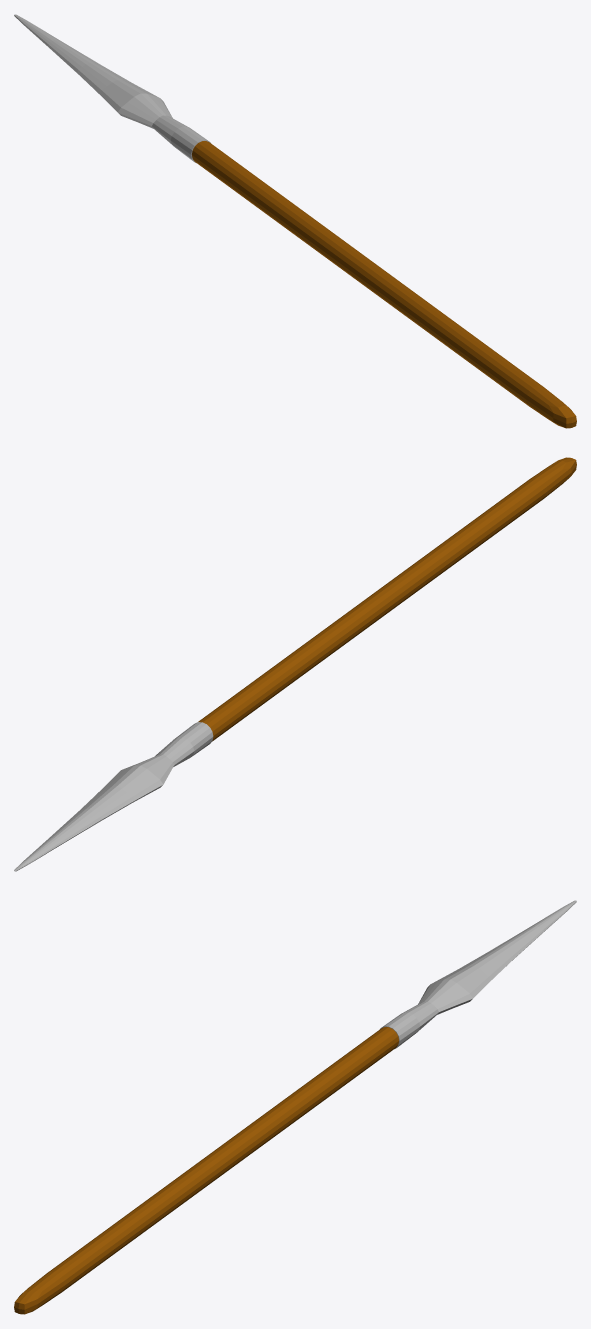
Rendered from Speer.fbx.
The picture shows the model from 3 angles, top to bottom: view 1: azimuth 30°, elevation 25°; view 2: azimuth 150°, elevation 25°; view 3: azimuth 330°, elevation 25°; orthographic projection.
Visible parts, largest first — view 1: Plane.015; view 2: Plane.015; view 3: Plane.015.
Part boxes in pixels (x1,y1,x2,y2): Plane.015: [14, 14, 576, 428]; Plane.015: [14, 457, 576, 871]; Plane.015: [14, 900, 576, 1314].
Bounding box in the file's own units: 3.51 × 1.97 × 73.88.
